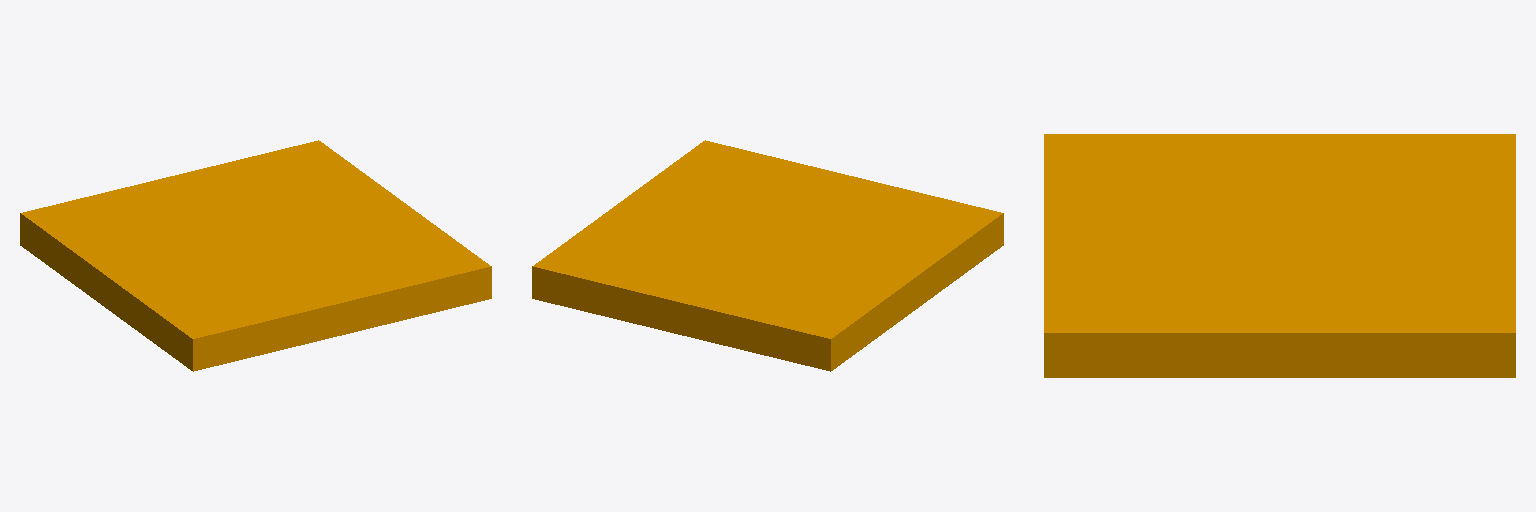
The robot description file, URDF, robot "ar_2020":
<robot name="ar_2020">
	<link name="simple_box_base_link">
		<inertial>
			<origin xyz="0 0 0" rpy="0 0 0"/>
			<mass value="1.0"/>
			<inertia ixx="0.074" ixy="0" ixz="0" iyy="0.058" iyz="0" izz="0.026"/>
		</inertial>
		<collision>
			<origin xyz="0 0 0" rpy="0 0 0"/>
			<geometry>
				<box size="0.09 0.09 0.03"/>
			</geometry>
		</collision>
		<visual>
			<origin xyz="0 0 0" rpy="0 0 0"/>
			<geometry>
				<mesh filename="package://turtlebot3_description/meshes/fd_avneet.dae"/>
			</geometry>
			<material name="light_off"/>
		</visual>
	</link>
	<gazebo reference="simple_box_base_link">
		<kp>100000.0</kp>
		<kd>100000.0</kd>
		<mu1>0.1</mu1>
		<mu2>0.1</mu2>
		<fdir1>1 0 0</fdir1>
		<visual>
     	<material><lighting>0</lighting></material>
   		</visual>
	</gazebo>
</robot>

--- Render facts (derived) ---
The picture shows the robot from 3 angles, left to right: view 1: azimuth 30°, elevation 25°; view 2: azimuth 150°, elevation 25°; view 3: azimuth 270°, elevation 25°; orthographic projection.
Robot: ar_2020 — 1 links, 0 joints (none); root link simple_box_base_link; default pose: every joint at zero.
Links seen in each view (by area): view 1: simple_box_base_link; view 2: simple_box_base_link; view 3: simple_box_base_link.
Boxes of the visible links, left/top/right/bottom form: simple_box_base_link: left=20, top=140, right=491, bottom=371; simple_box_base_link: left=532, top=140, right=1003, bottom=371; simple_box_base_link: left=1044, top=134, right=1515, bottom=377.
Size in the robot's own frame: 0.09 by 0.09 by 0.0093 metres.
Meshes: 1 distinct files referenced, 1 mesh visuals loaded (1 Collada DAE).
